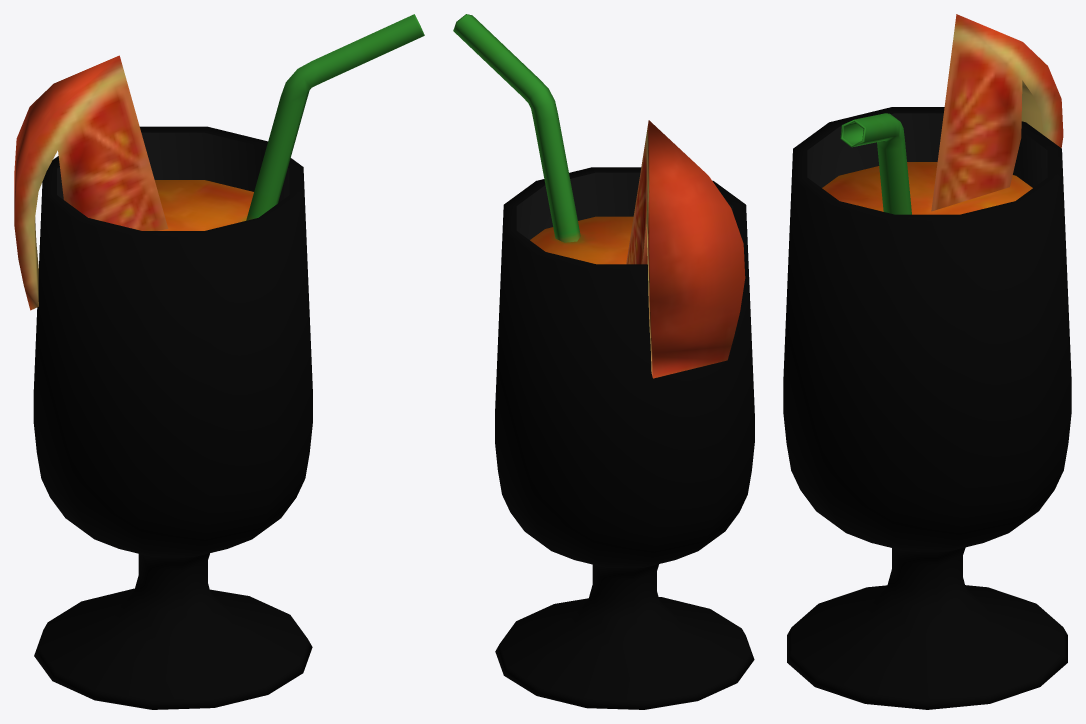
The picture shows the model from 3 angles, left to right: view 1: azimuth 30°, elevation 25°; view 2: azimuth 150°, elevation 25°; view 3: azimuth 270°, elevation 25°; orthographic projection. The views are drawn at different scales.
Bounding box in the file's own units: 3.7 × 6.04 × 2.49.
Materials: 3 (3 with a texture image).
